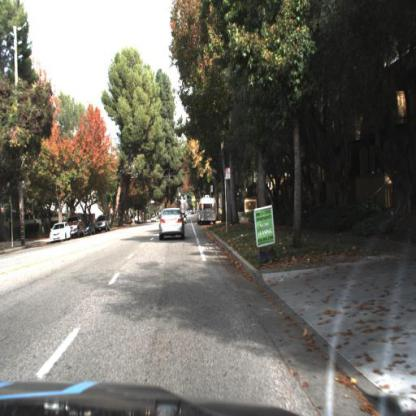car: (153, 203, 191, 254), (47, 219, 74, 245), (96, 214, 113, 236), (71, 219, 86, 242), (83, 217, 98, 236), (85, 217, 97, 238)
truck: (195, 192, 218, 232)
